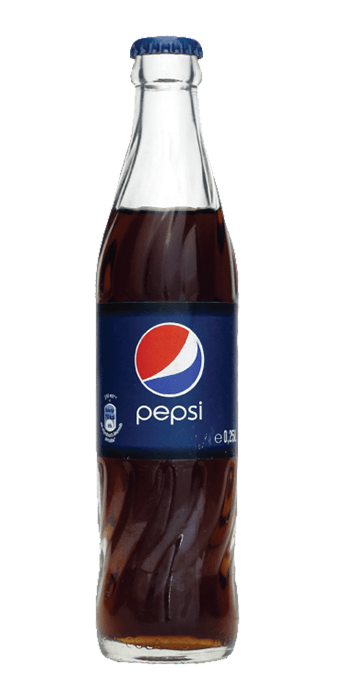pepsi: (135, 315, 204, 396), (136, 315, 204, 396), (136, 315, 202, 396), (135, 321, 204, 396)
